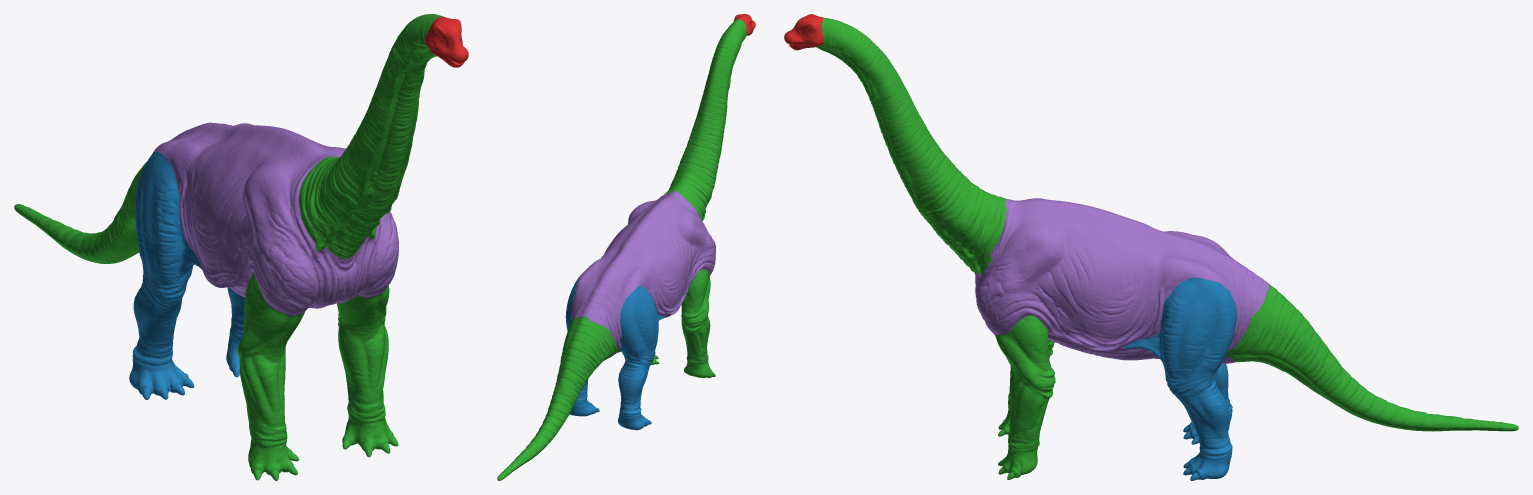
Rendered from SubdividedModelBracheosaurus.glb.
The picture shows the model from 3 angles, left to right: view 1: azimuth 30°, elevation 25°; view 2: azimuth 150°, elevation 25°; view 3: azimuth 270°, elevation 25°; orthographic projection. The views are drawn at different scales.
Parts seen in each view (by area): view 1: model_part7, model_part1, model_part5, model_part0, model_part3, model_part6, model_part2, model_part4; view 2: model_part7, model_part1, model_part6, model_part5, model_part0, model_part4; view 3: model_part7, model_part1, model_part4, model_part6, model_part3, model_part2.
Part boxes in pixels (box(x1,y1,x2,y2)): model_part7: box(154, 122, 398, 315); model_part1: box(299, 14, 443, 258); model_part5: box(129, 151, 202, 399); model_part0: box(237, 272, 304, 480); model_part3: box(337, 286, 398, 457); model_part6: box(14, 162, 146, 263); model_part2: box(425, 16, 468, 67); model_part4: box(226, 287, 244, 377); model_part7: box(571, 191, 715, 359); model_part1: box(664, 19, 746, 220); model_part6: box(497, 316, 621, 480); model_part5: box(618, 286, 665, 430); model_part0: box(681, 269, 715, 378); model_part4: box(565, 279, 599, 416); model_part7: box(974, 198, 1269, 364); model_part1: box(816, 17, 1006, 273); model_part4: box(1123, 277, 1236, 480); model_part6: box(1225, 283, 1518, 431); model_part3: box(995, 315, 1055, 479); model_part2: box(784, 14, 823, 50).
Size of the model in its own units: 0.0223 by 0.0787 by 0.12.
